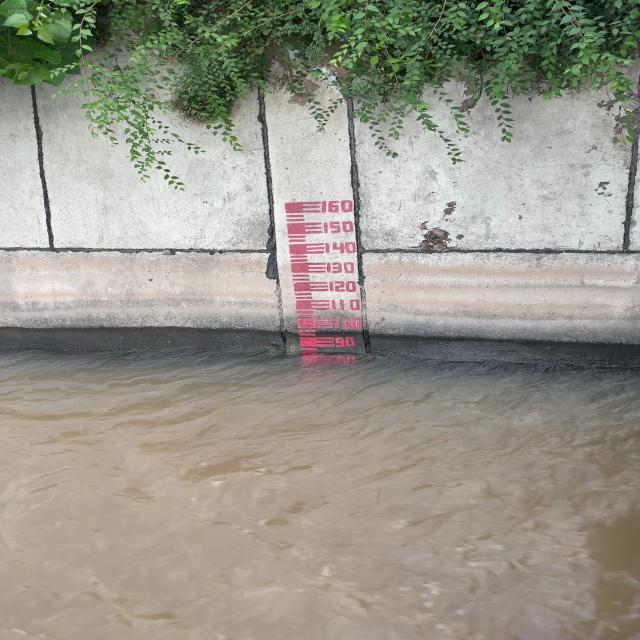ruler: (276, 194, 372, 356)
value: (321, 240, 361, 256), (318, 198, 356, 214), (322, 260, 358, 275), (330, 316, 366, 331), (320, 220, 358, 234), (328, 297, 363, 312), (326, 279, 360, 293), (333, 335, 357, 349)
